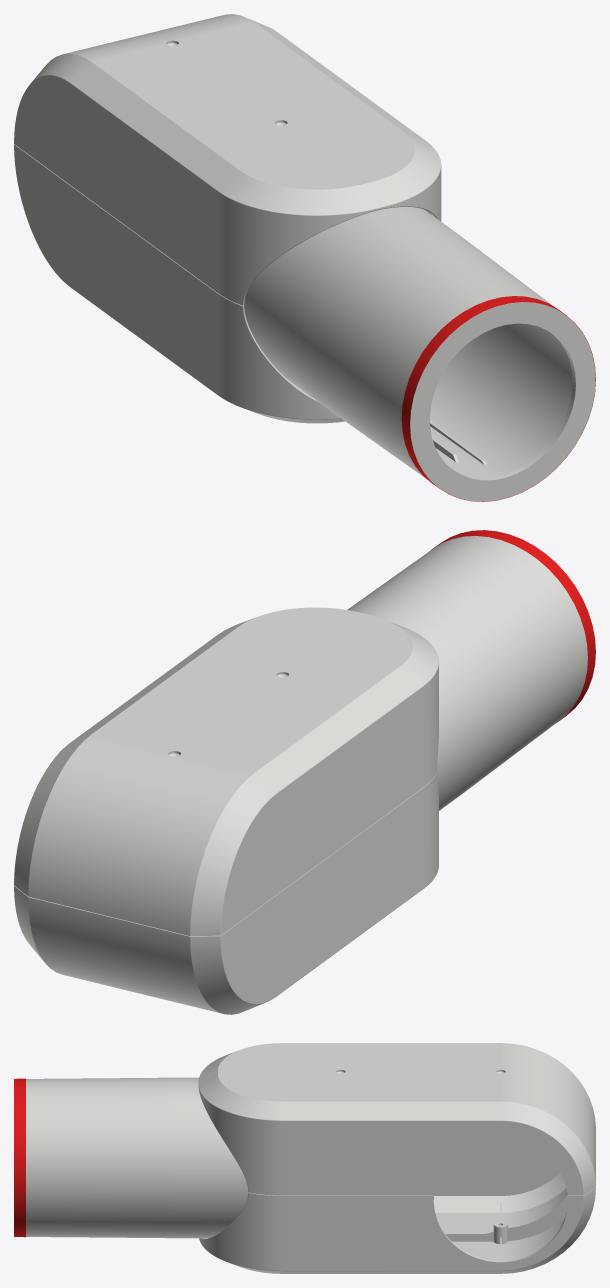
3 renders of one model, top to bottom at view 1: azimuth 30°, elevation 25°; view 2: azimuth 150°, elevation 25°; view 3: azimuth 270°, elevation 25°, orthographic. The views are drawn at different scales.
Parts seen in each view (by area): view 1: shell1, shell3, shell2, 实体4; view 2: shell1, shell2, shell3, 实体4; view 3: shell1, shell2, shell3, 实体4.
Part boxes in pixels (x1,y1,x2,y2): shell1: (14, 14, 441, 305); shell3: (244, 207, 595, 501); shell2: (14, 144, 344, 423); 实体4: (401, 296, 595, 501); shell1: (14, 607, 438, 935); shell2: (14, 772, 438, 1014); shell3: (347, 536, 587, 810); 实体4: (431, 530, 595, 722); shell1: (198, 1043, 595, 1195); shell2: (199, 1140, 595, 1273); shell3: (26, 1077, 247, 1238); 实体4: (14, 1078, 25, 1237).
Size of the model in its own units: 73.5 by 78.97 by 242.
